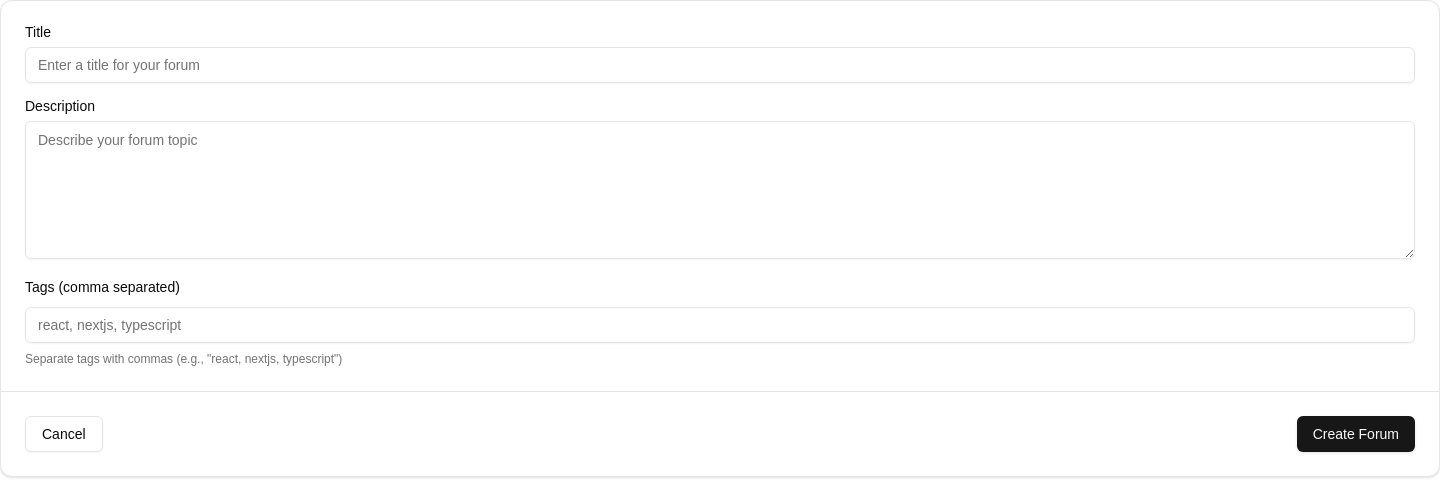
Test: ForumForm › shows validation errors when title is too short
Type "ab" into the field labelled "Title" at point(720, 65), box x1=25 y1=47 x2=1415 y2=83
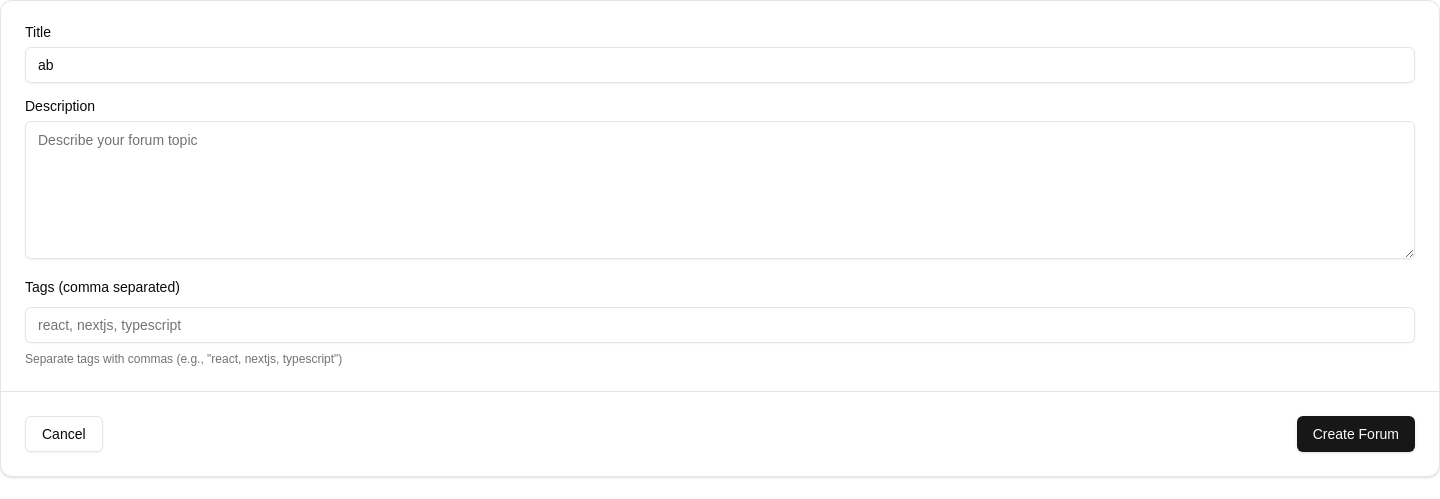
Click the button "Create Forum" at point(1356, 434), box x1=1297 y1=416 x2=1415 y2=452
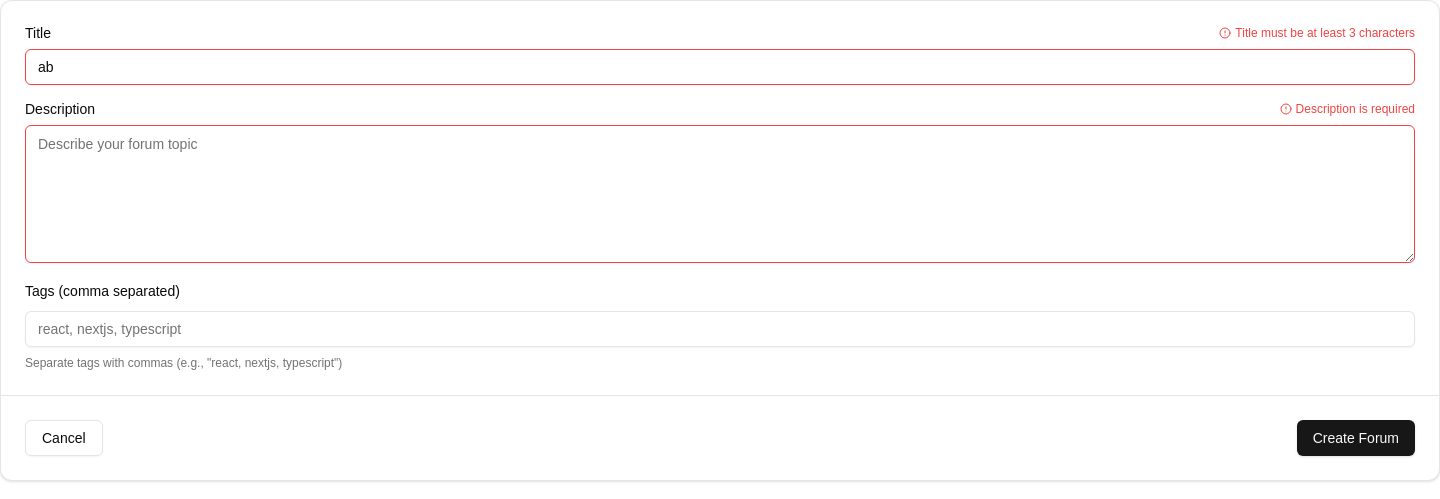
expect the text "Title must be at least 3 characters" is shown: met, box x1=1219 y1=25 x2=1415 y2=41
